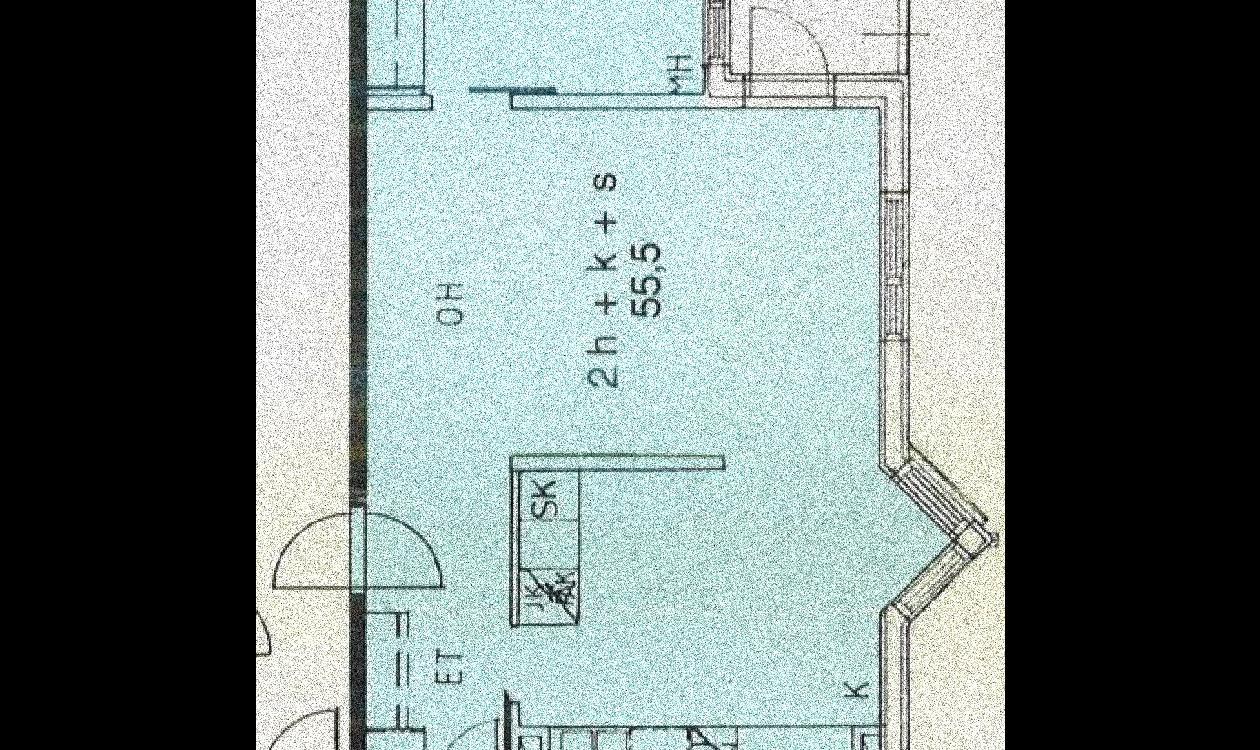door: (262, 498, 452, 604), (739, 0, 835, 96), (261, 705, 340, 750), (423, 712, 505, 750)
window: (877, 519, 972, 626), (881, 451, 970, 540), (880, 194, 906, 340), (703, 0, 730, 61)
zone: (367, 102, 962, 750), (365, 0, 702, 94)
